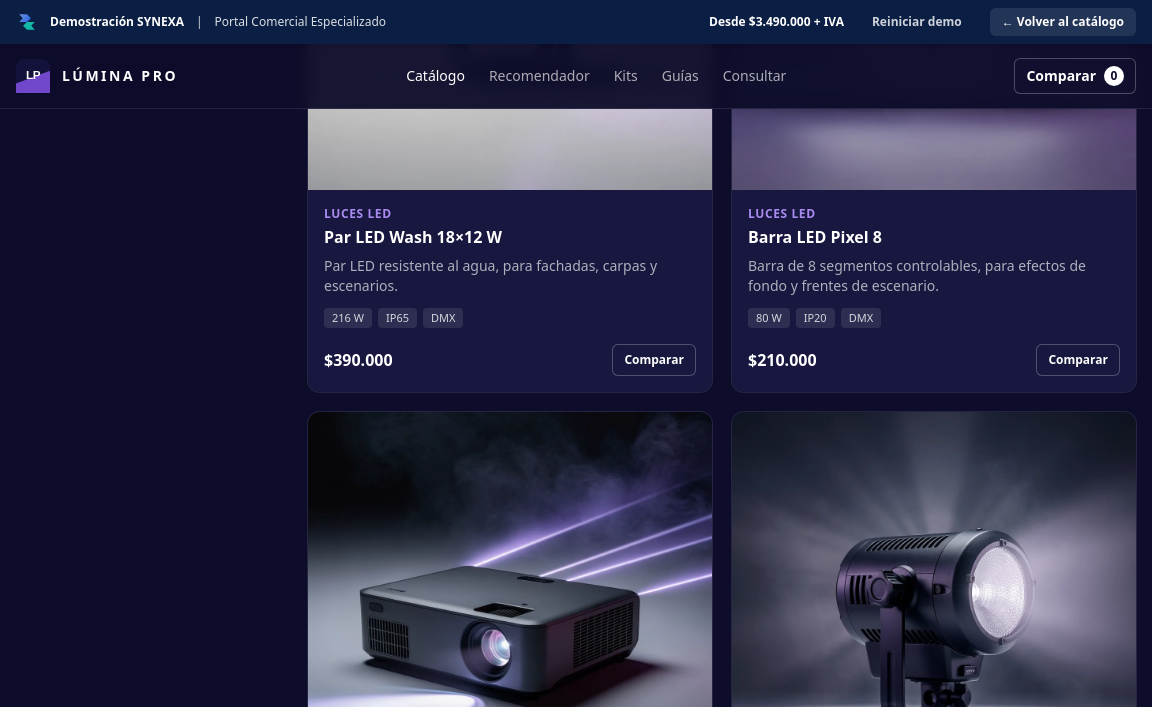
Test case: demo Lúmina Pro › compara equipos, resalta el mejor valor y limita a tres
The image size is (1152, 707).
(page scrolled)
Click the button "Comparar" in the row of "$390.000" at coordinates (654, 360), box [612, 344, 696, 376]
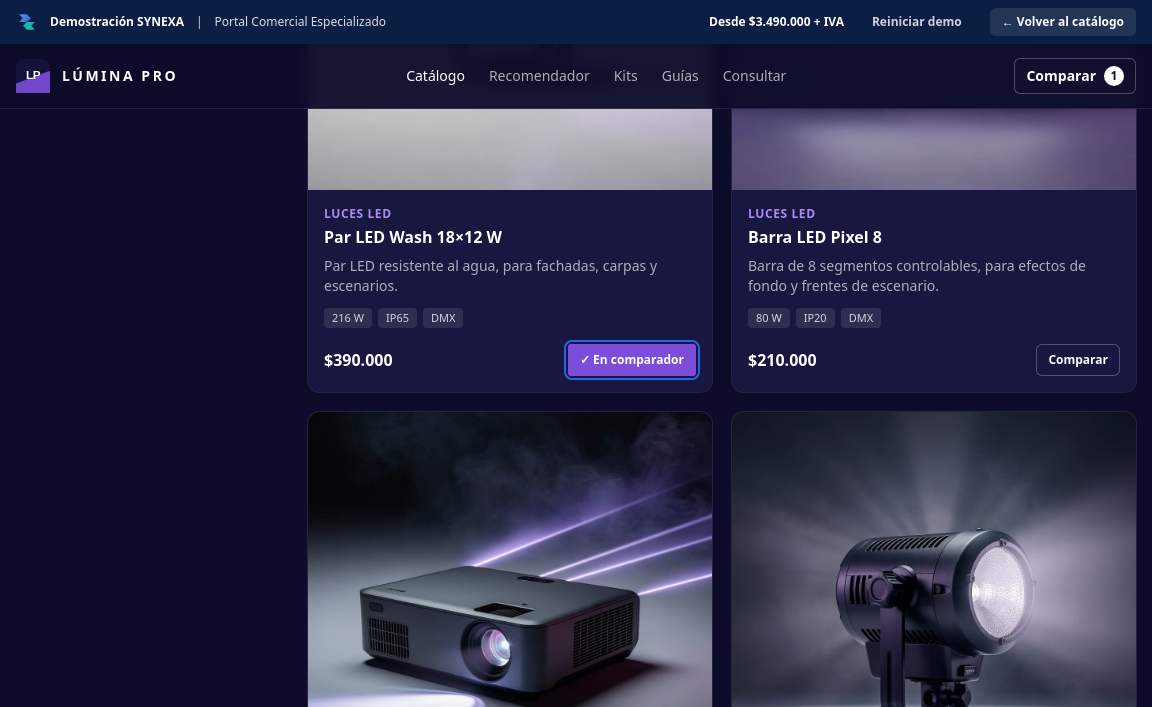
Click the button "Comparar" at coordinates (1078, 360), box [1036, 344, 1120, 376]
(page scrolled)
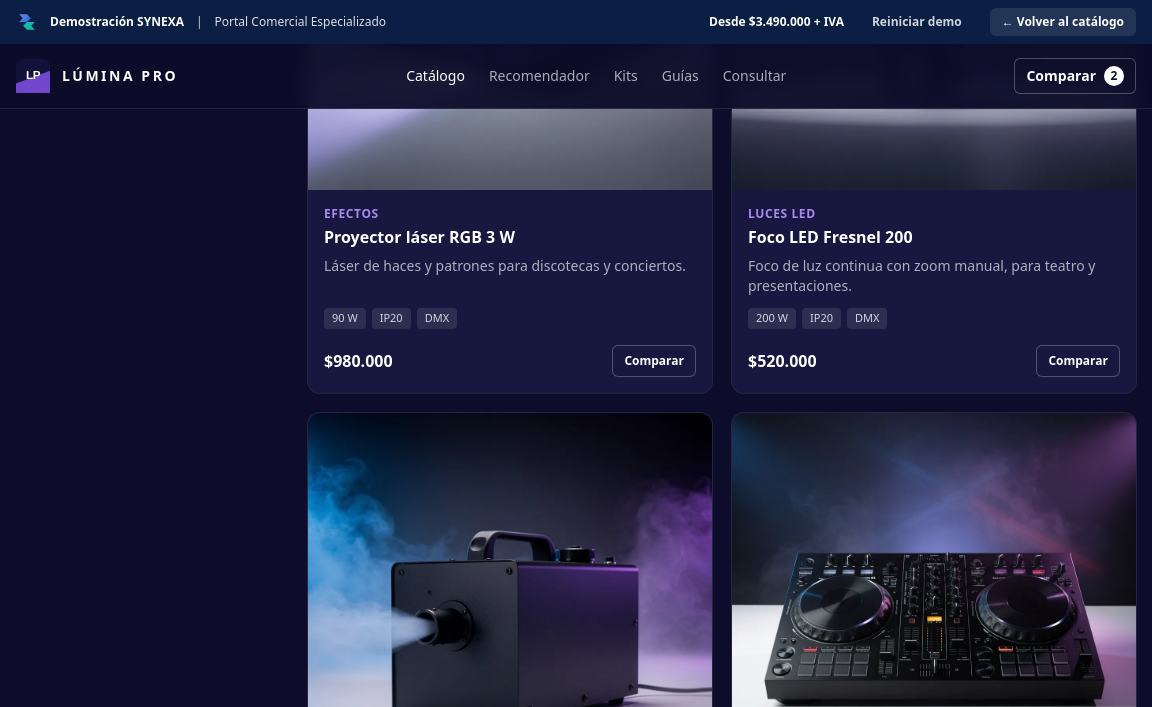
Click the button "Comparar" in the row of "$520.000" at coordinates (1078, 360), box [1036, 344, 1120, 376]
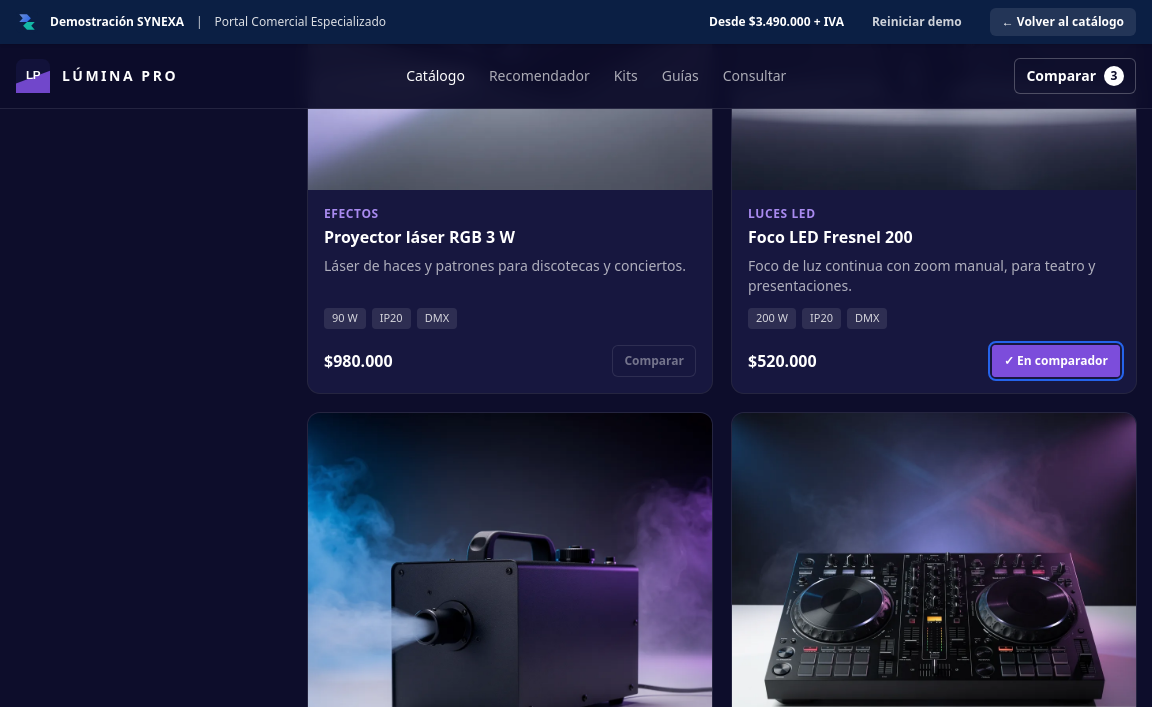
Click the link "Comparar 3" at coordinates (1075, 76), box [1014, 58, 1136, 94]
(page scrolled)
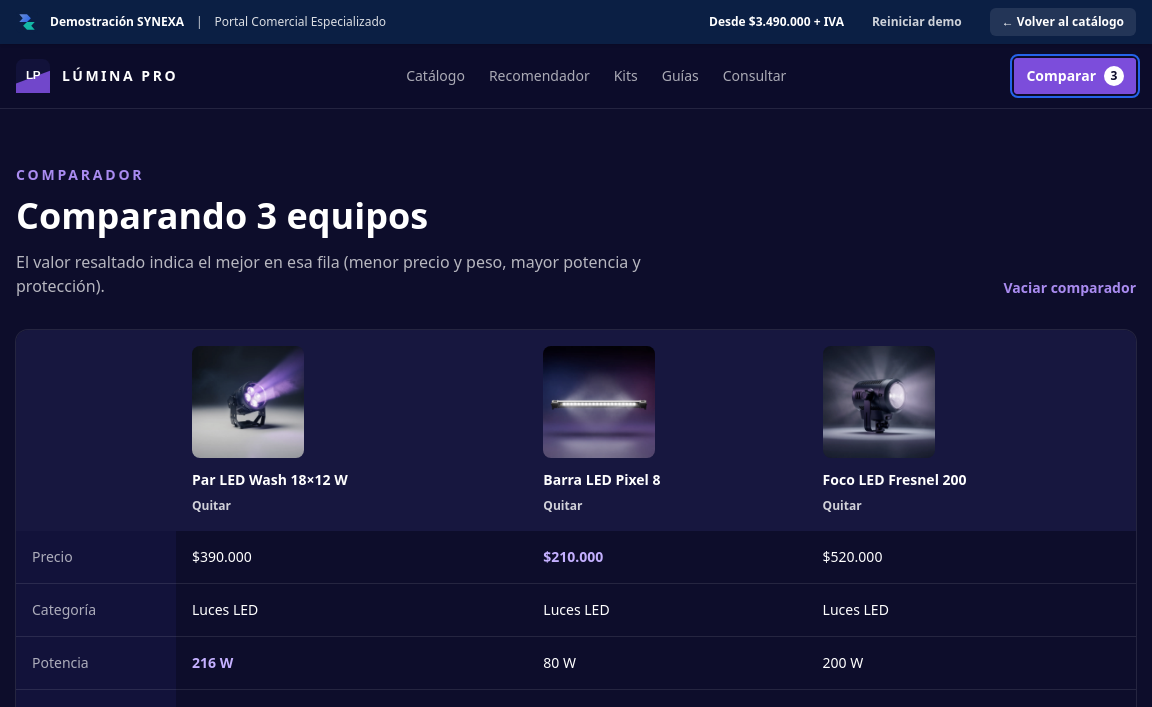
Expected: the heading "Comparando 3 equipos" is shown, [16, 191, 428, 240]
Click the button with aria-label "Quitar Barra LED Pixel 8 del comparador" at coordinates (563, 506), box [543, 498, 582, 514]
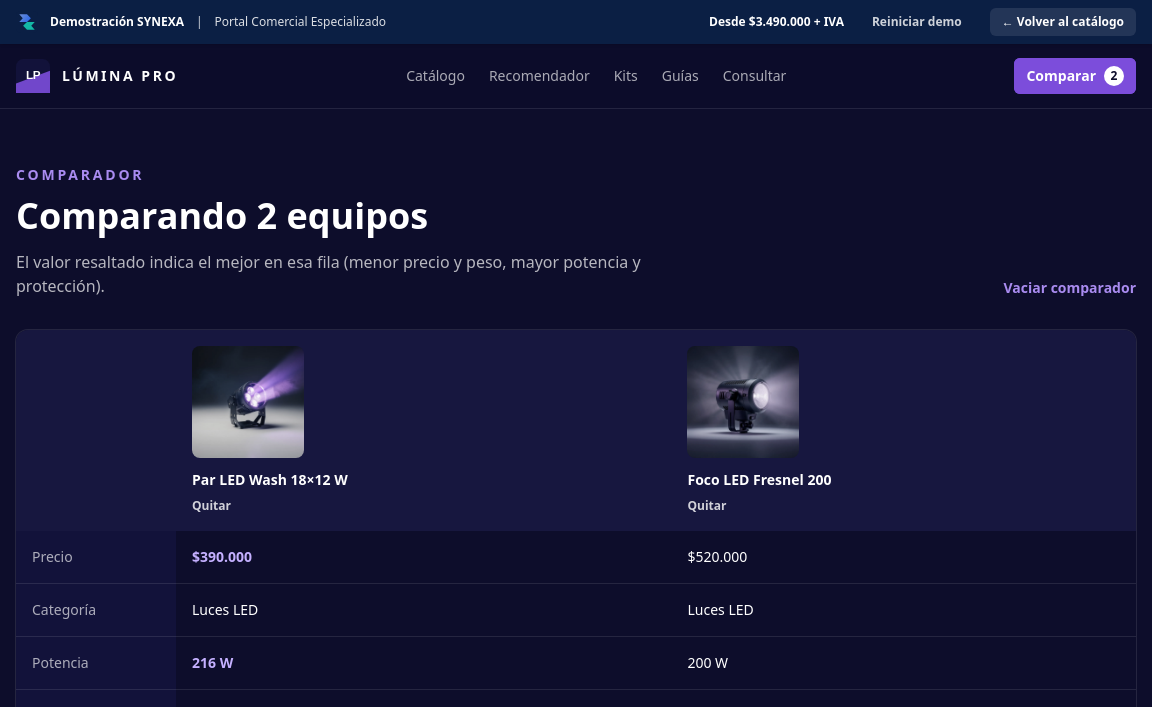
Expected: the heading "Comparando 2 equipos" is shown, [16, 191, 428, 240]
